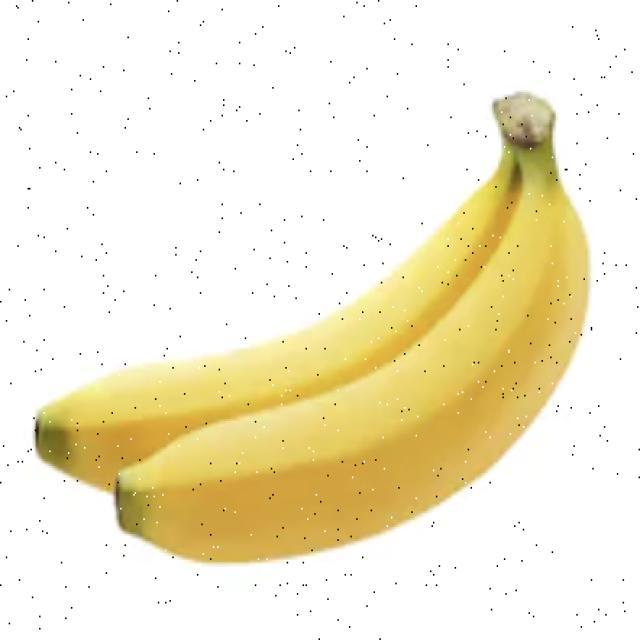Banana: (33, 90, 590, 563)
